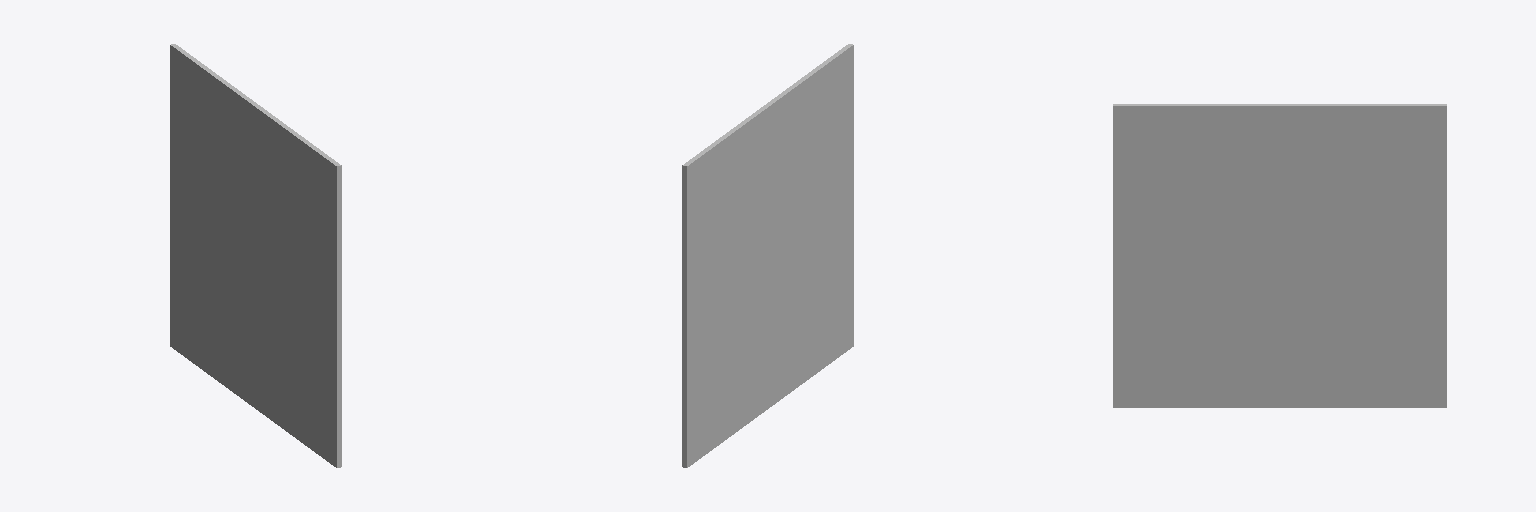
Rendered from Parede estrelada.obj.
3 renders of one model, left to right at view 1: azimuth 30°, elevation 25°; view 2: azimuth 150°, elevation 25°; view 3: azimuth 270°, elevation 25°, orthographic.
Parts seen in each view (by area): view 1: object 1; view 2: object 1; view 3: object 1.
Part boxes in pixels (x1,y1,x2,y2): object 1: (170, 44, 341, 467); object 1: (682, 44, 853, 467); object 1: (1113, 104, 1446, 407).
Size of the model in its own units: 0.1 by 6 by 6.